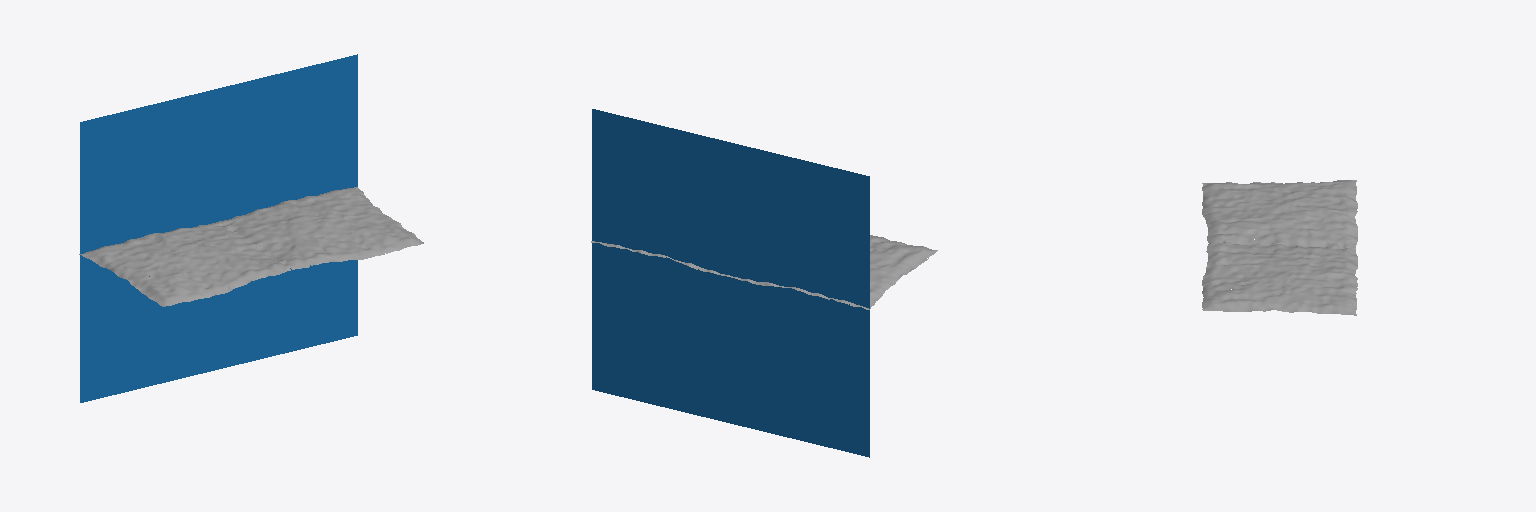
Rendered from background_snow.obj.
3 renders of one model, left to right at view 1: azimuth 30°, elevation 25°; view 2: azimuth 150°, elevation 25°; view 3: azimuth 270°, elevation 25°, orthographic.
Visible parts, largest first — view 1: Sky_Plane.001, Snow_Plane; view 2: Sky_Plane.001, Snow_Plane; view 3: Snow_Plane.
Boxes of the visible parts, box(x1,y1,x2,y2) form: Sky_Plane.001: box(80, 54, 357, 402); Snow_Plane: box(79, 187, 423, 306); Sky_Plane.001: box(592, 109, 869, 457); Snow_Plane: box(591, 235, 937, 309); Snow_Plane: box(1202, 180, 1357, 315).
Size of the model in its own units: 44.27 by 42.66 by 21.54.